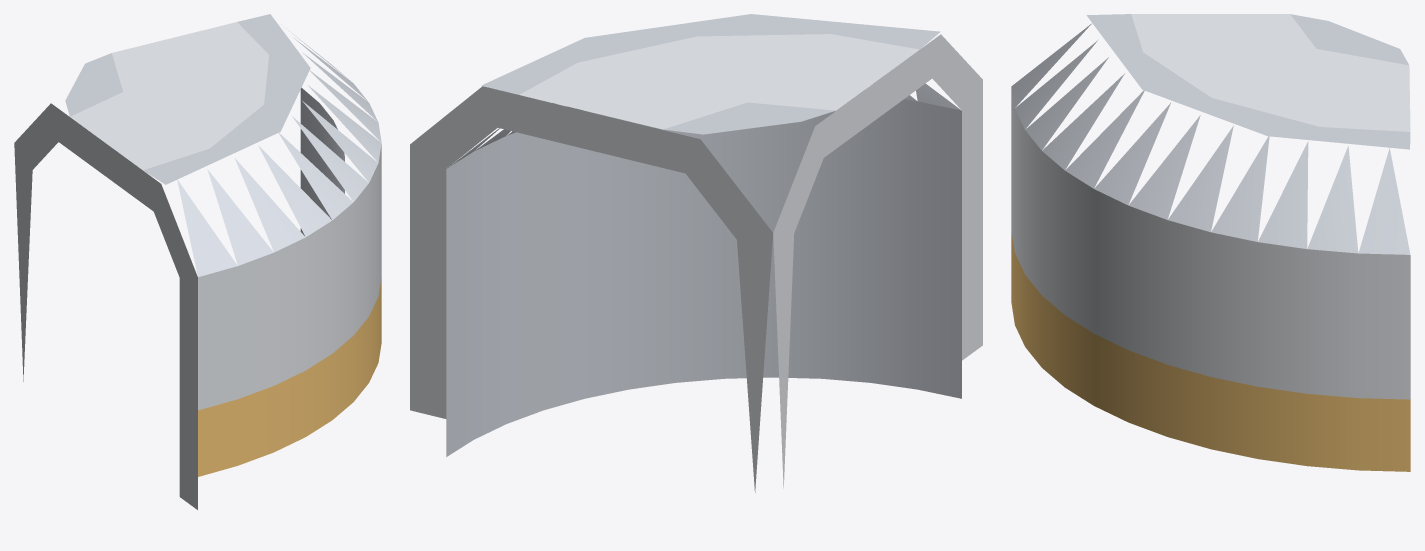
Rendered from corridor_cornerRound_lod1.glb.
3 renders of one model, left to right at view 1: azimuth 30°, elevation 25°; view 2: azimuth 150°, elevation 25°; view 3: azimuth 270°, elevation 25°, orthographic. The views are drawn at different scales.
Visible parts, largest first — view 1: corridor_cornerRound.001; view 2: corridor_cornerRound.001; view 3: corridor_cornerRound.001.
Boxes of the visible parts, x1=… form: corridor_cornerRound.001: x1=14, y1=14, x2=381, y2=509; corridor_cornerRound.001: x1=410, y1=14, x2=982, y2=492; corridor_cornerRound.001: x1=1011, y1=14, x2=1410, y2=471.
Size of the model in its own units: 1 by 1 by 1.
